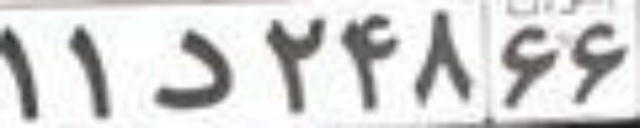1: (64, 23, 111, 119), (0, 25, 36, 119)
2: (263, 18, 325, 112)
4: (335, 14, 398, 109)
6: (568, 22, 627, 105), (500, 24, 555, 109)
8: (412, 10, 473, 104)
dal: (153, 28, 235, 107)
